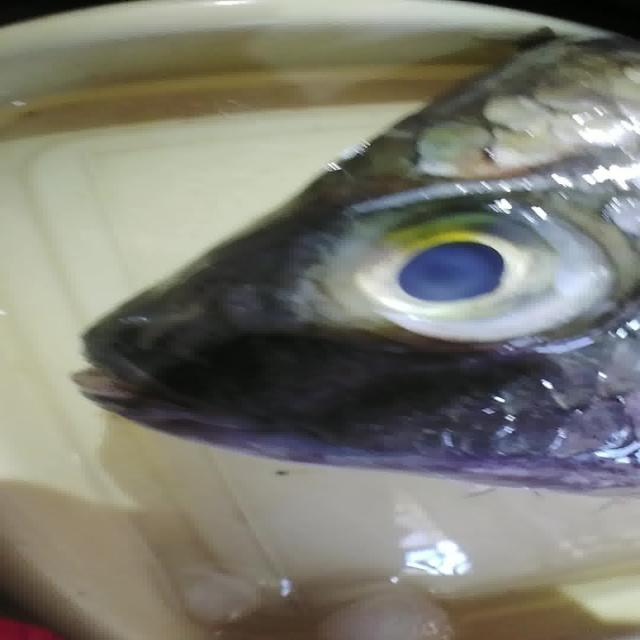Fresh: (332, 193, 619, 354)
